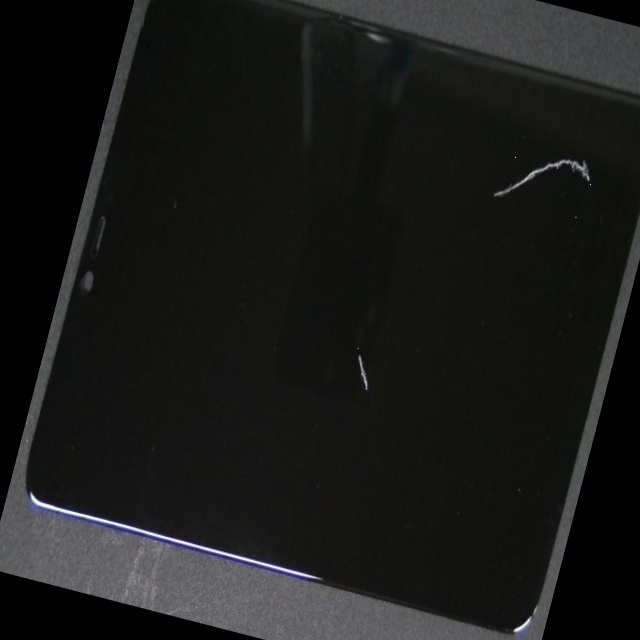scratch: (133, 119, 552, 627), (276, 17, 640, 338)
